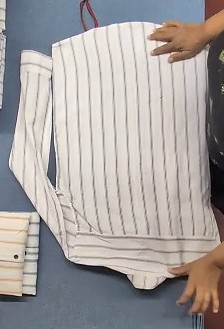SHIRT: (10, 86, 220, 281)
